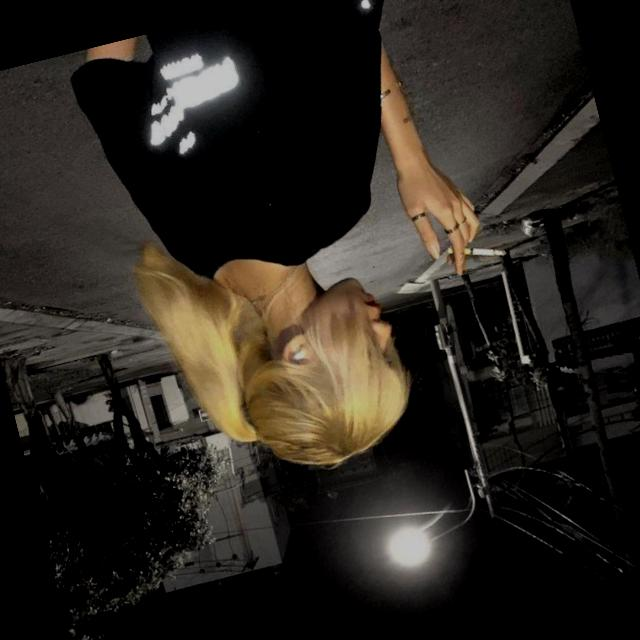cigarette: (428, 207, 524, 290)
